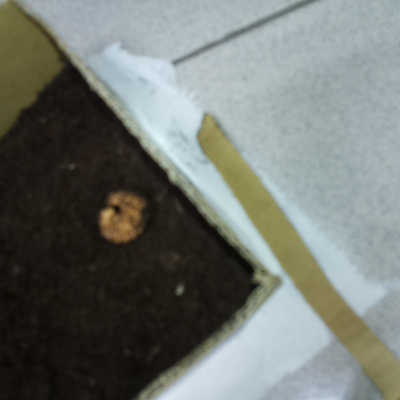eggs: (89, 182, 156, 245)
